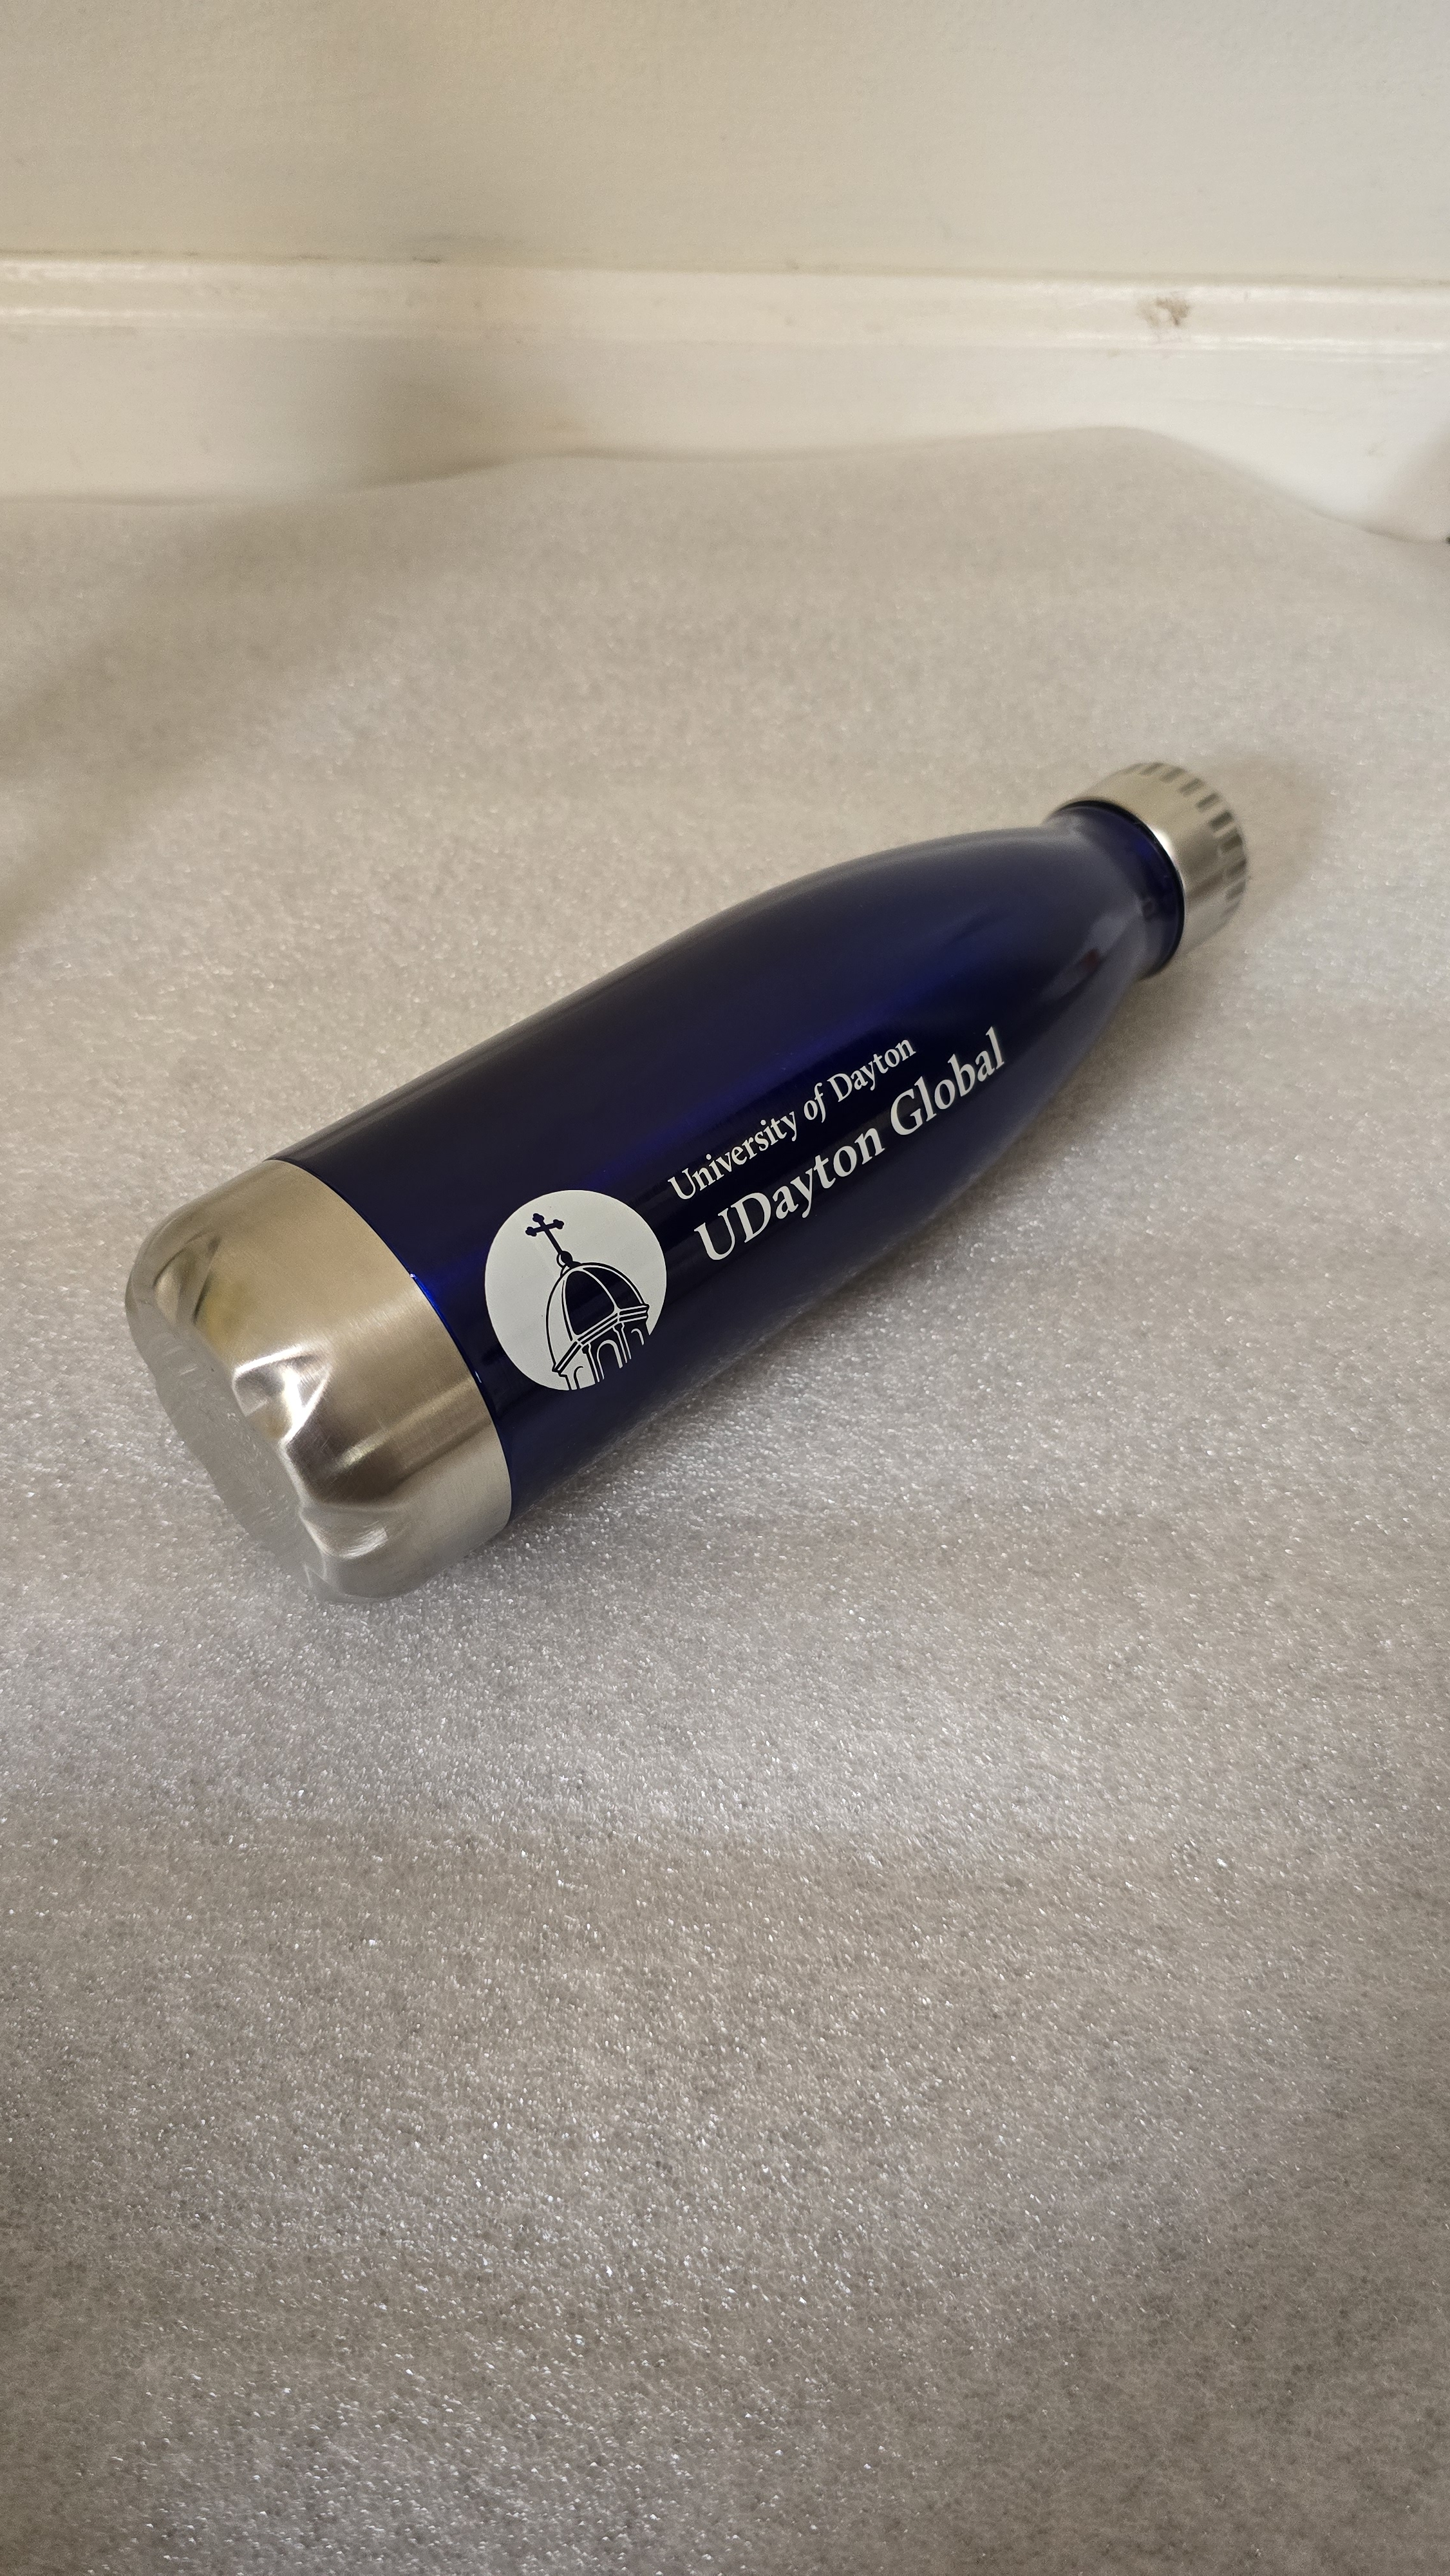bottle: (111, 635, 1282, 1637)
